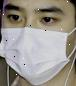with_mask: (2, 1, 76, 86)
